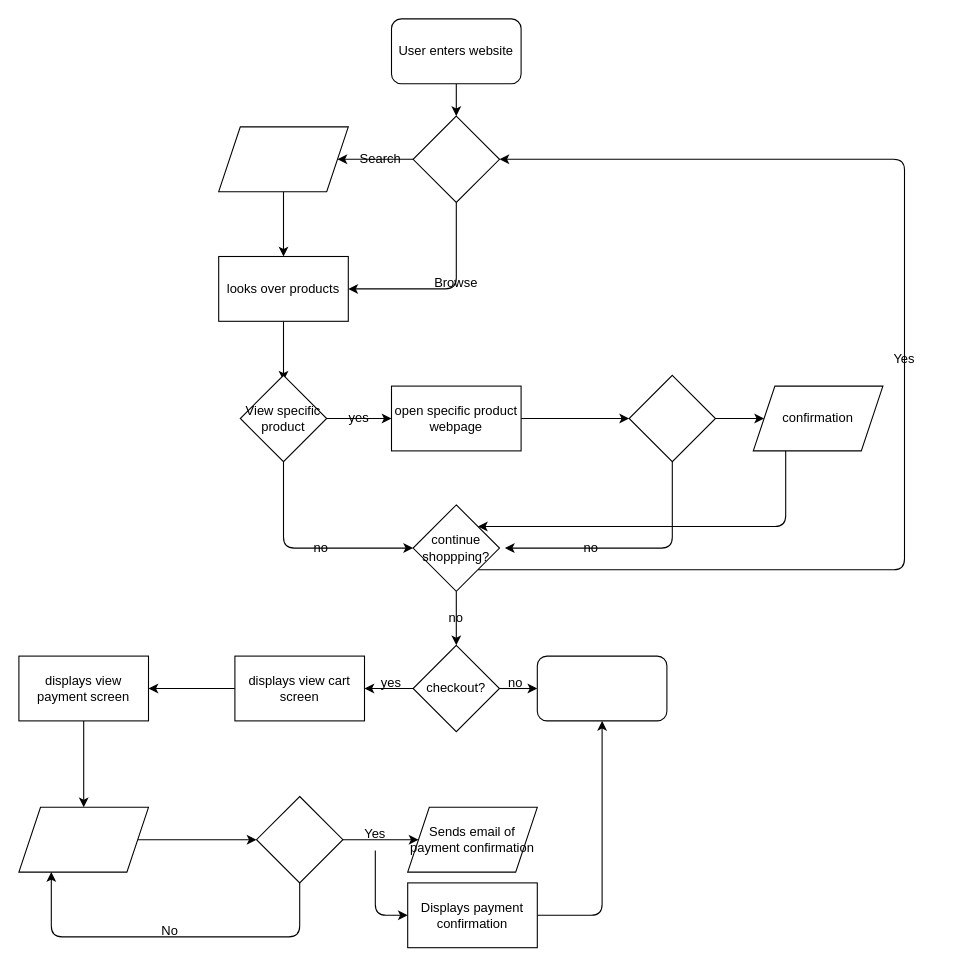
This 956x967 diagram has some shape labels left out. Here are the shapes that lost their labels. From the top down, the centre of each, then its label:
At (283,159): "search bar inputs".
At (456,158): "Search or Browse".
At (672,418): "add to cart?".
At (601,688): "leave website".
At (83,839): "user inputs payment information".
At (299,839): "Paid?".
